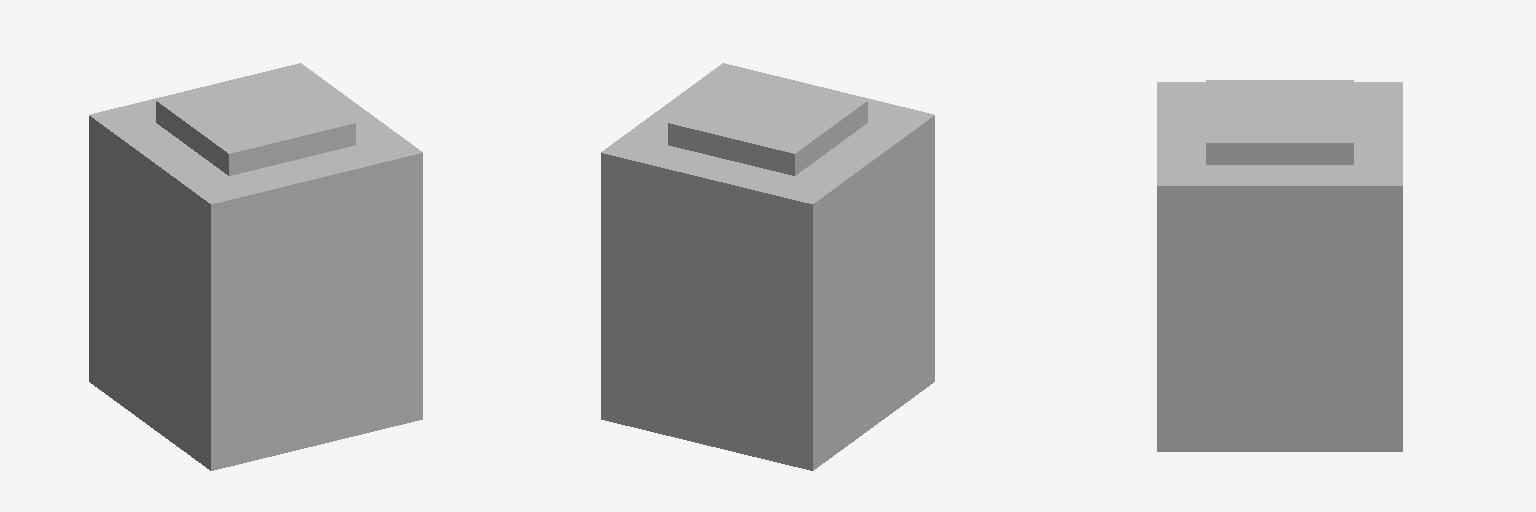
Rendered from wisp_jar.obj.
3 views of the same model, side by side, from view 1: azimuth 30°, elevation 25°; view 2: azimuth 150°, elevation 25°; view 3: azimuth 270°, elevation 25° (orthographic).
Visible parts, largest first — view 1: cube.000; view 2: cube.000; view 3: cube.000.
Boxes of the visible parts, x1,y1,x2,y2 form: cube.000: [89, 63, 422, 470]; cube.000: [601, 63, 934, 470]; cube.000: [1157, 80, 1402, 451].
Size of the model in its own units: 0.625 by 0.8125 by 0.625.